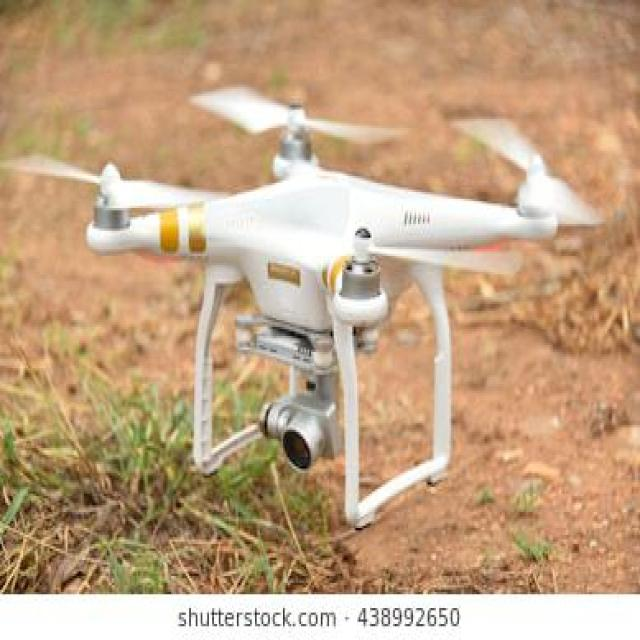drone: (0, 46, 612, 526)
